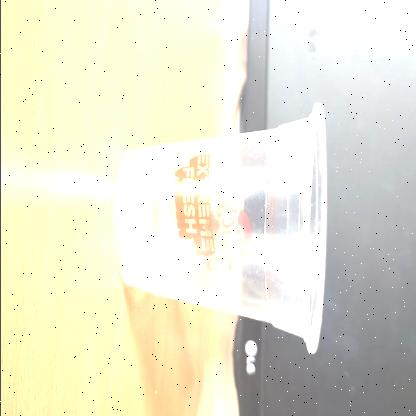Others: (111, 101, 327, 355)
